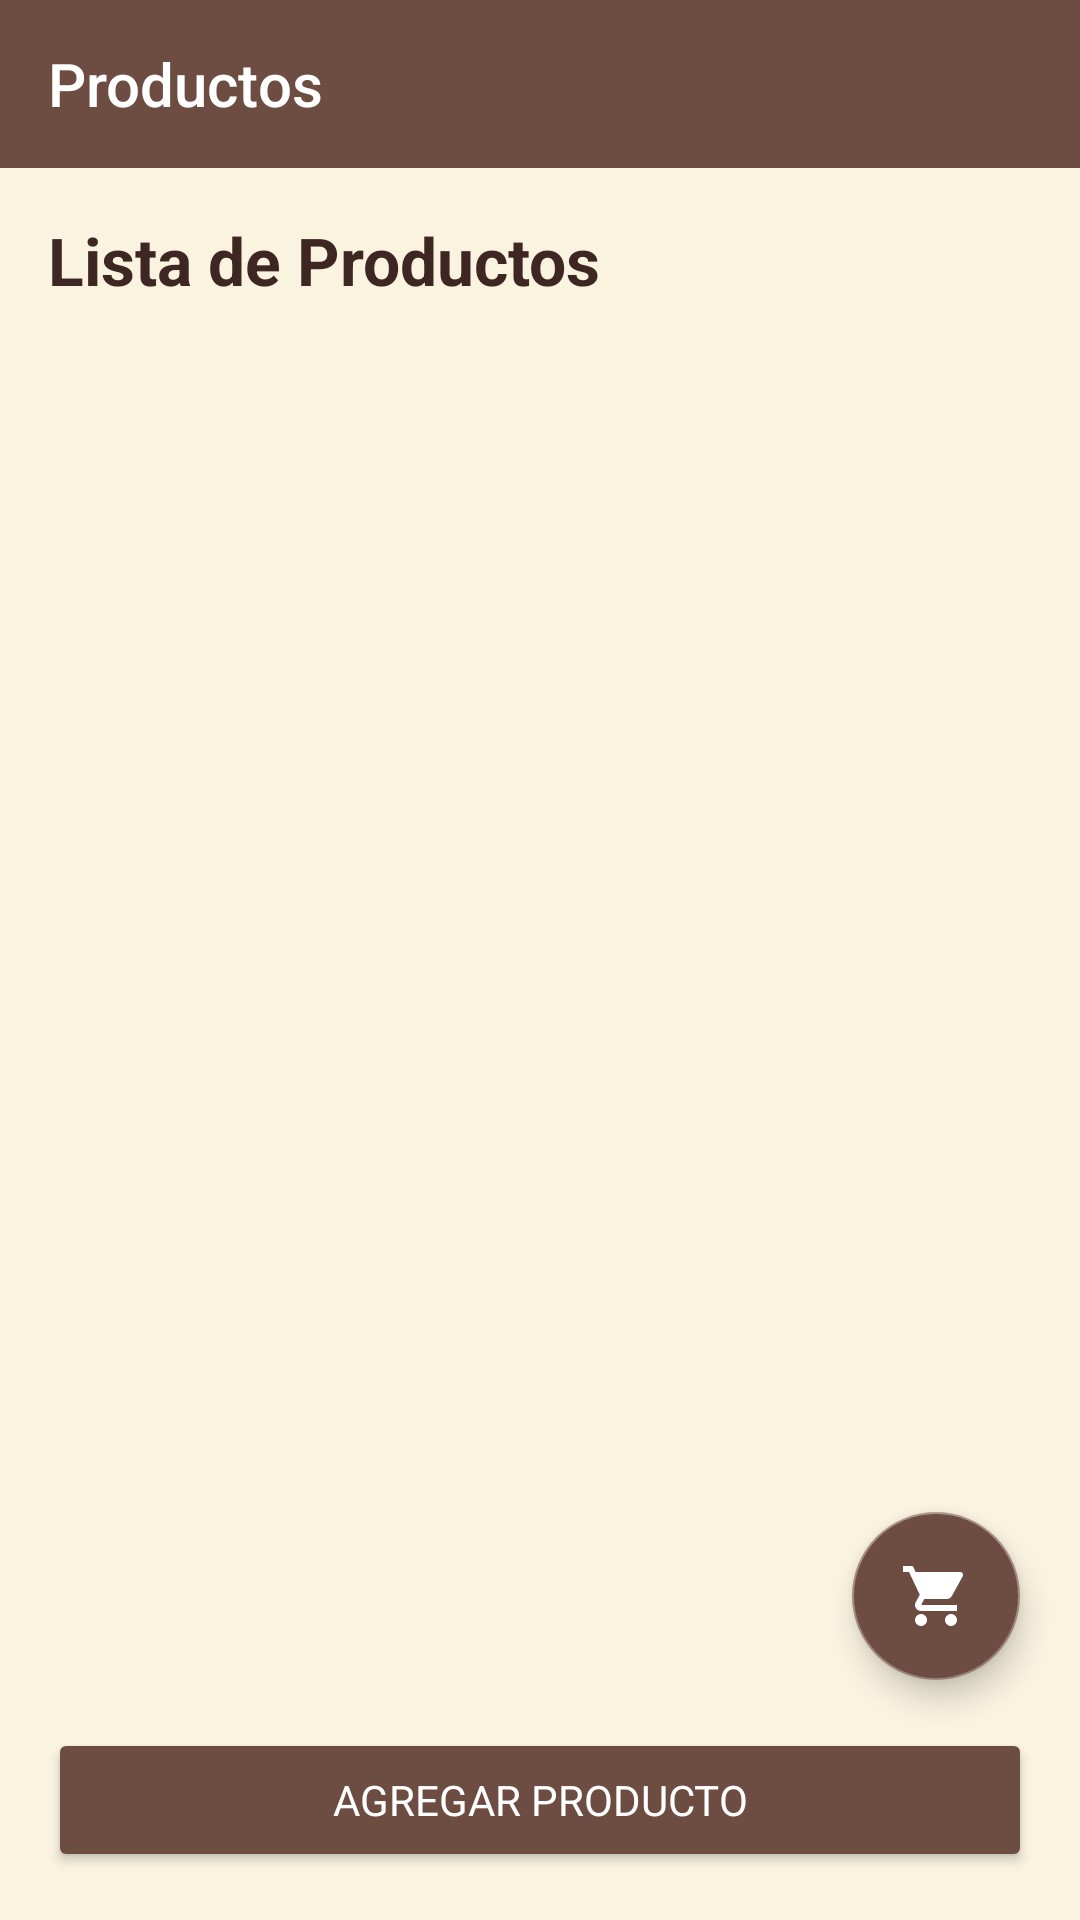

Icon bounding boxes for this 1080x1920 phone screenshot, format (x1, y1, x2, y2):
Carrito: (852, 1512, 1020, 1680)
